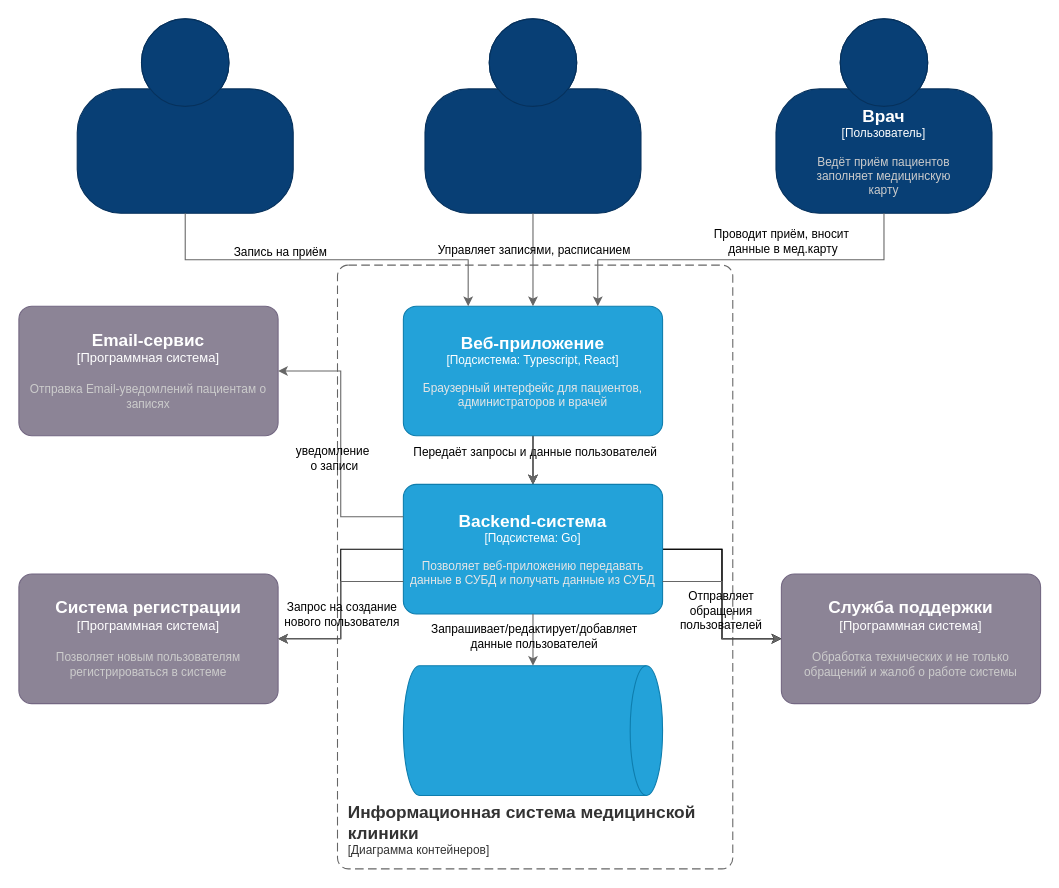
The diagram is 1059 pixels wide and 888 high, and some of its shapes have lost their labels. Here are the shapes that lost their labels. From the top down, the centre of each, then its label:
At (x=184, y=115): "Пациент [Пользователь] Записывается на приём Просматривает историю".
At (x=532, y=115): "Администратор [Пользователь] Регистрирует пациентов управляет расписанием".
At (x=532, y=730): "База данных [Container: PostgreSQL] Хранит данные".
